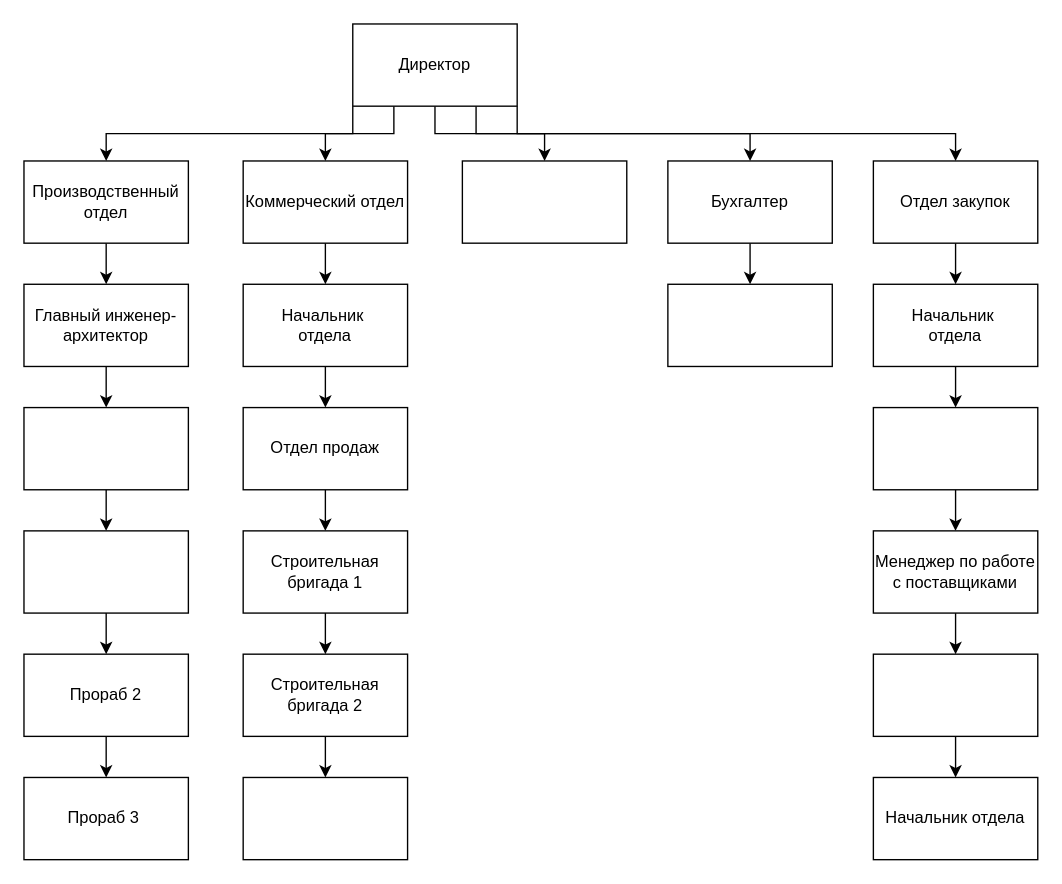
Some shapes in this 1062 by 884 pixel diagram are drawn without their labels. The centre of each missing label's shape, as x and y in pixels:
Кассир: the point at 749,324
Менеджер по пожарной безопасности: the point at 105,448
Оператор по работе с прорабами: the point at 955,448
Операционисты: the point at 955,694
Отдел кадров: the point at 544,201
Прораб 1: the point at 105,571
Строительная бригада 3: the point at 325,818
